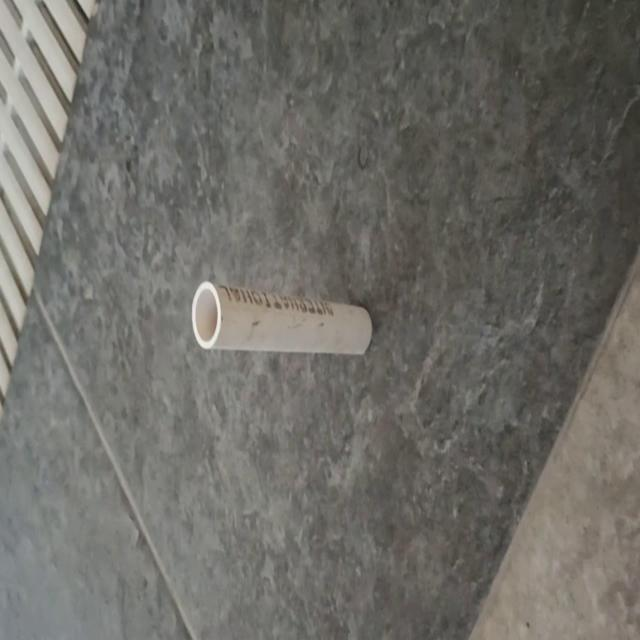Cube: (190, 278, 372, 358)
